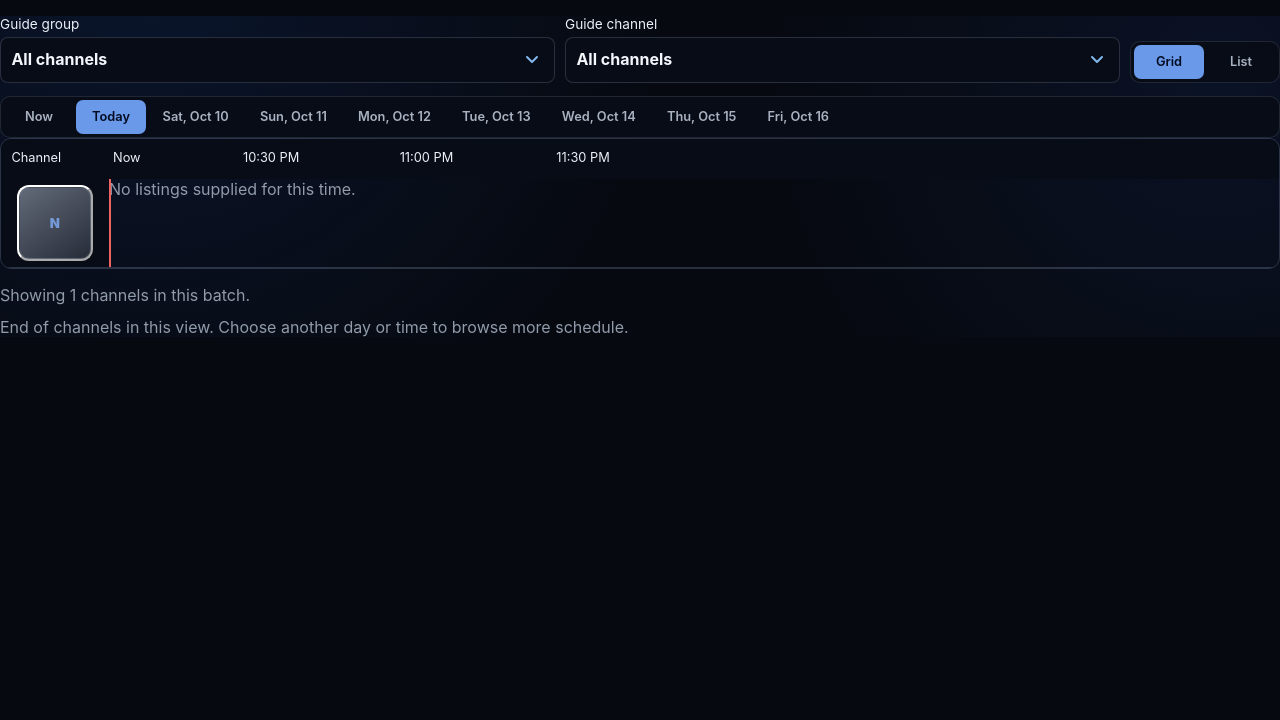
it: opens channel options from the Grid logo without autoplay and restores focus on close
Check: the button "Watch Live" is not shown
Click the button named "Options for News" at (55, 223), box x1=17 y1=185 x2=93 y2=261
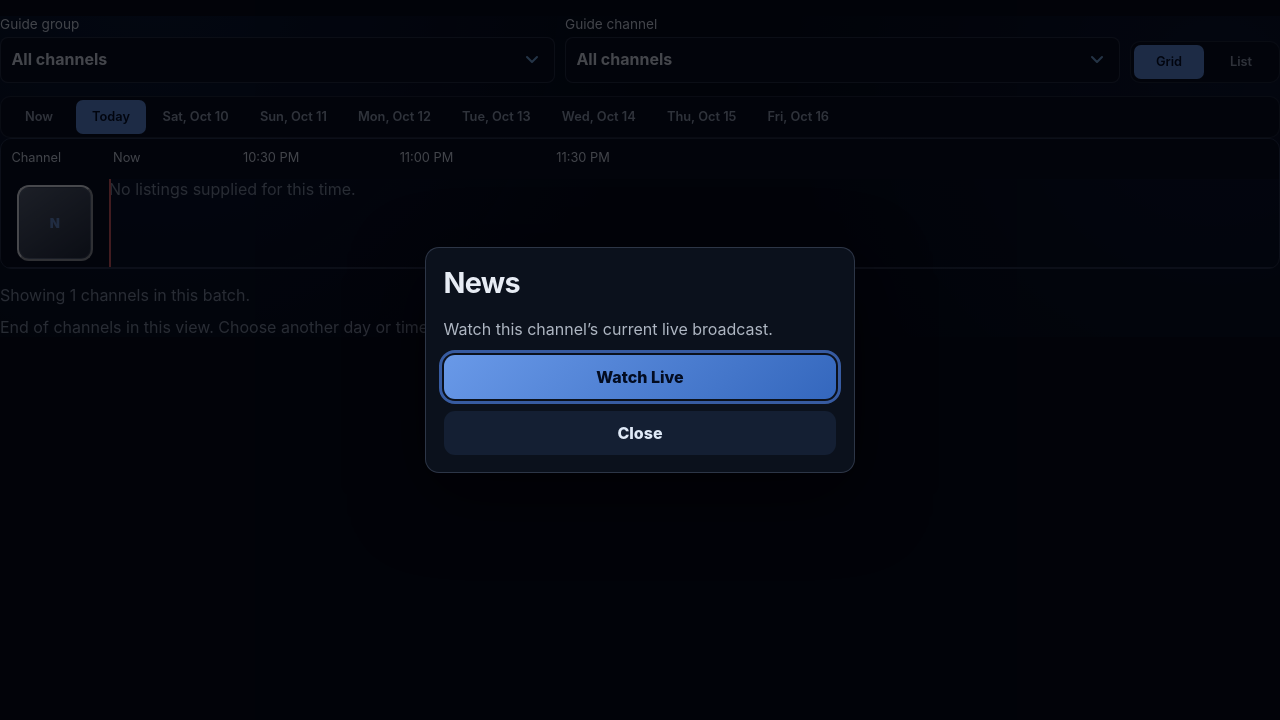
Click the button "Close" at (640, 433), box x1=444 y1=411 x2=836 y2=455
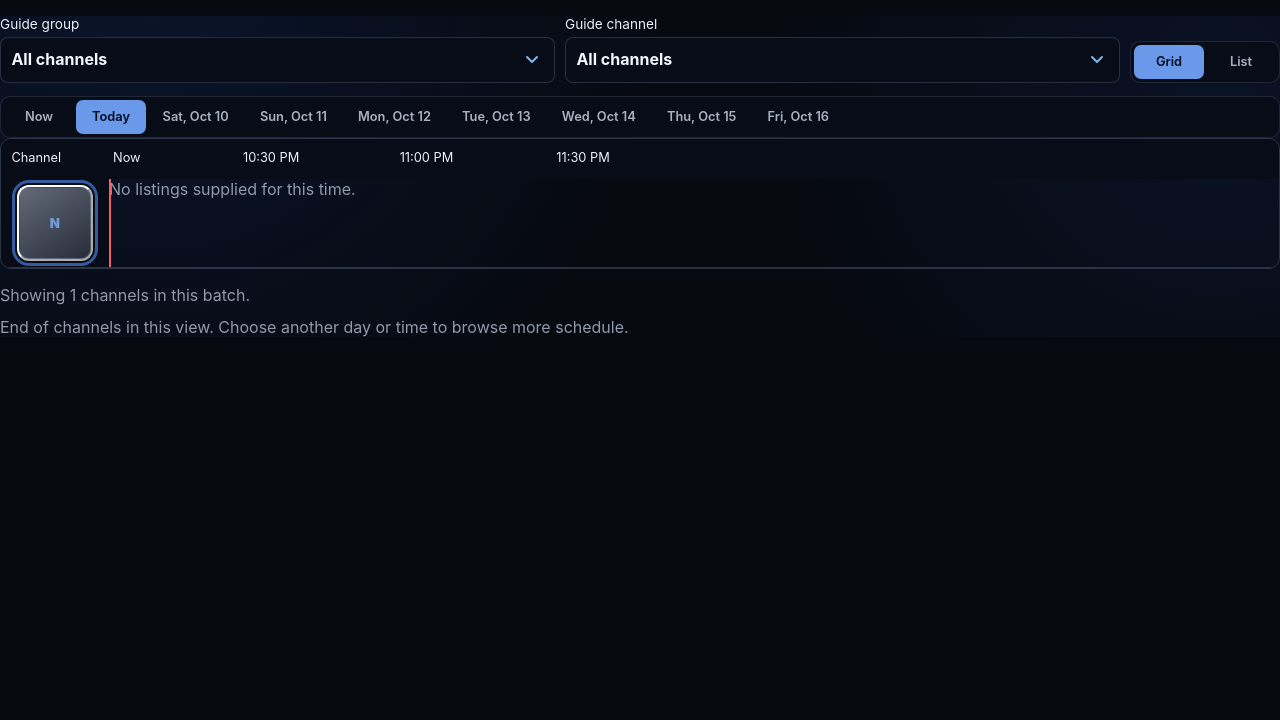
Click the button named "Options for News" at (55, 223), box x1=17 y1=185 x2=93 y2=261
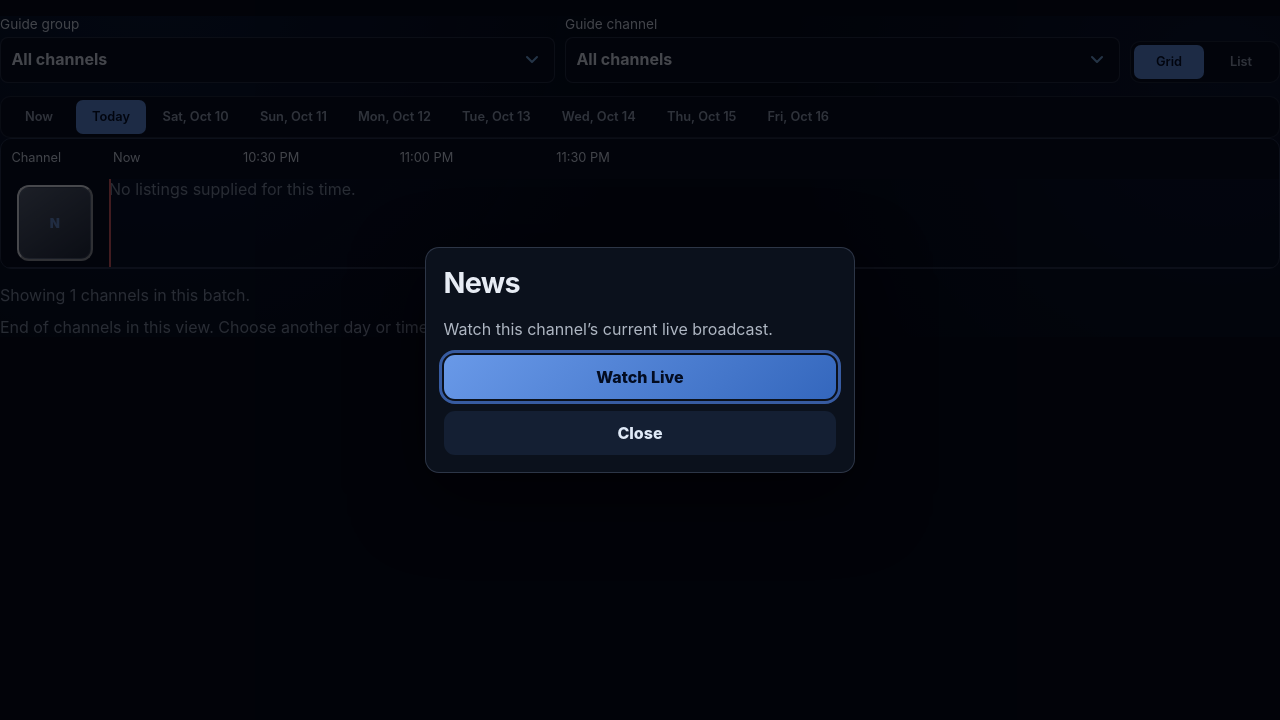
Click the button "Watch Live" at (640, 377), box x1=444 y1=355 x2=836 y2=399
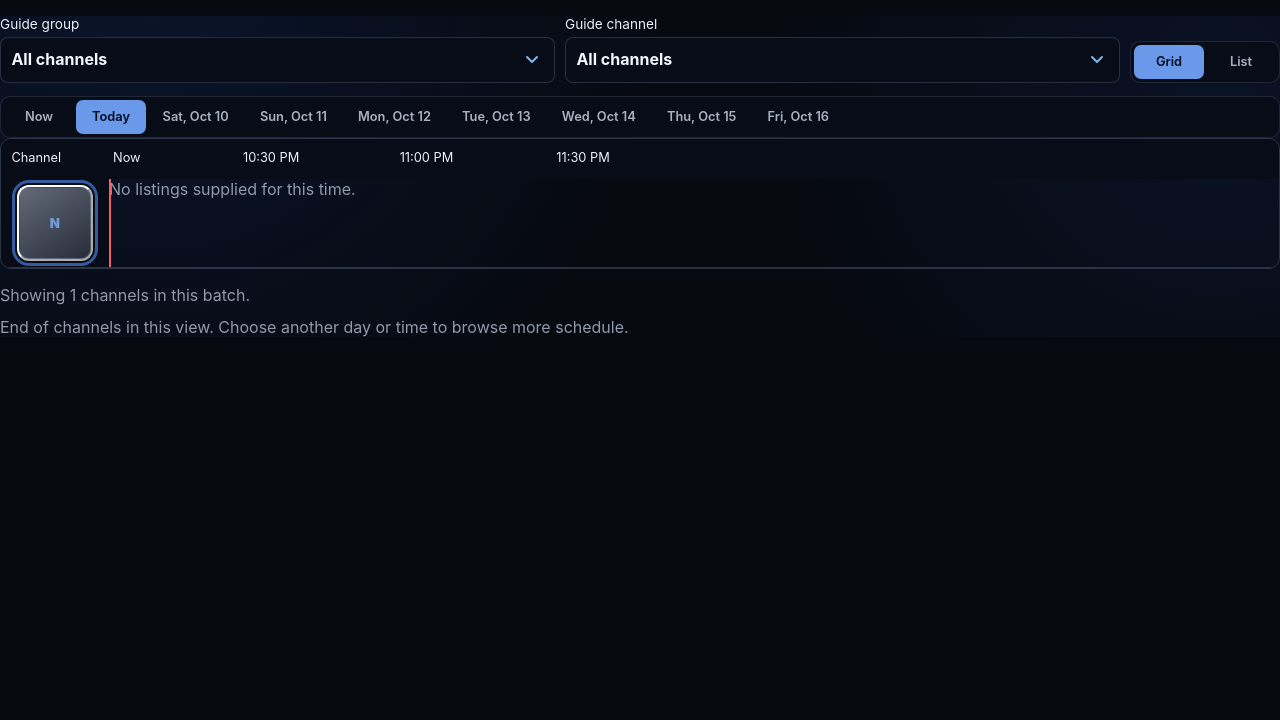
Check: the dialog is gone
